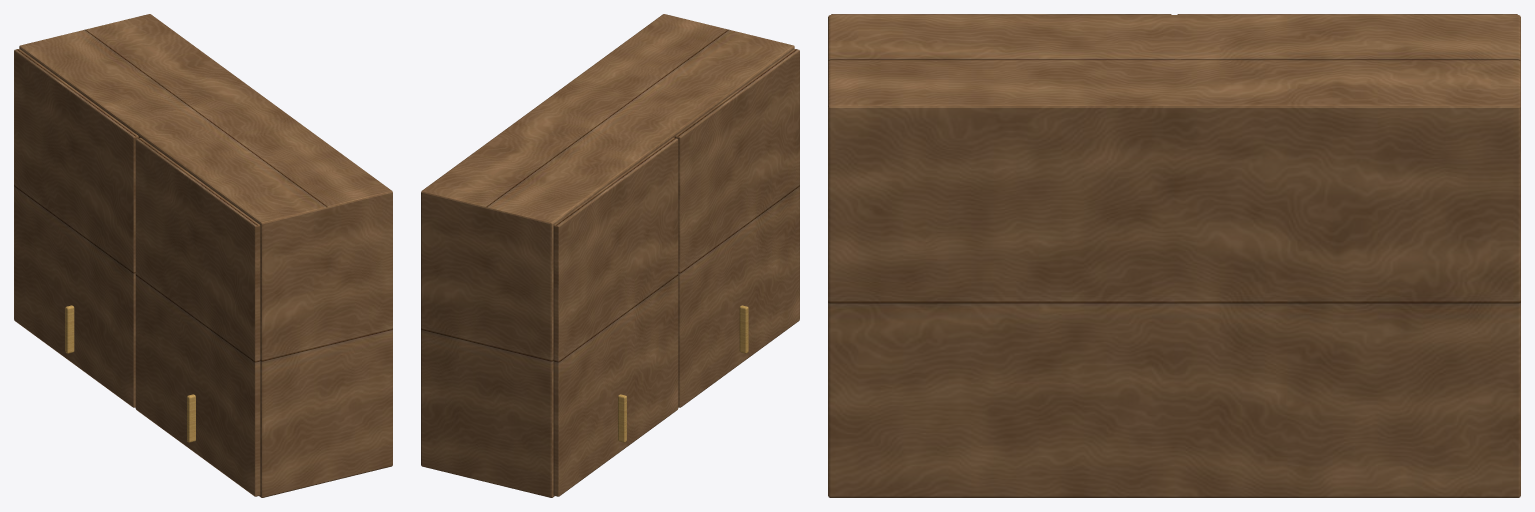
File: kitchen_wall_units.glb
3 renders of one model, left to right at view 1: azimuth 30°, elevation 25°; view 2: azimuth 150°, elevation 25°; view 3: azimuth 270°, elevation 25°, orthographic. The views are drawn at different scales.
Visible parts, largest first — view 1: kitchen_wall_units; view 2: kitchen_wall_units; view 3: kitchen_wall_units.
Boxes of the visible parts, x1=… form: kitchen_wall_units: x1=14, y1=14, x2=392, y2=497; kitchen_wall_units: x1=421, y1=14, x2=799, y2=497; kitchen_wall_units: x1=828, y1=14, x2=1520, y2=497.
Bounding box in the file's own units: 0.396 × 0.72 × 1.15.
Materials: 2 (2 with a texture image).
